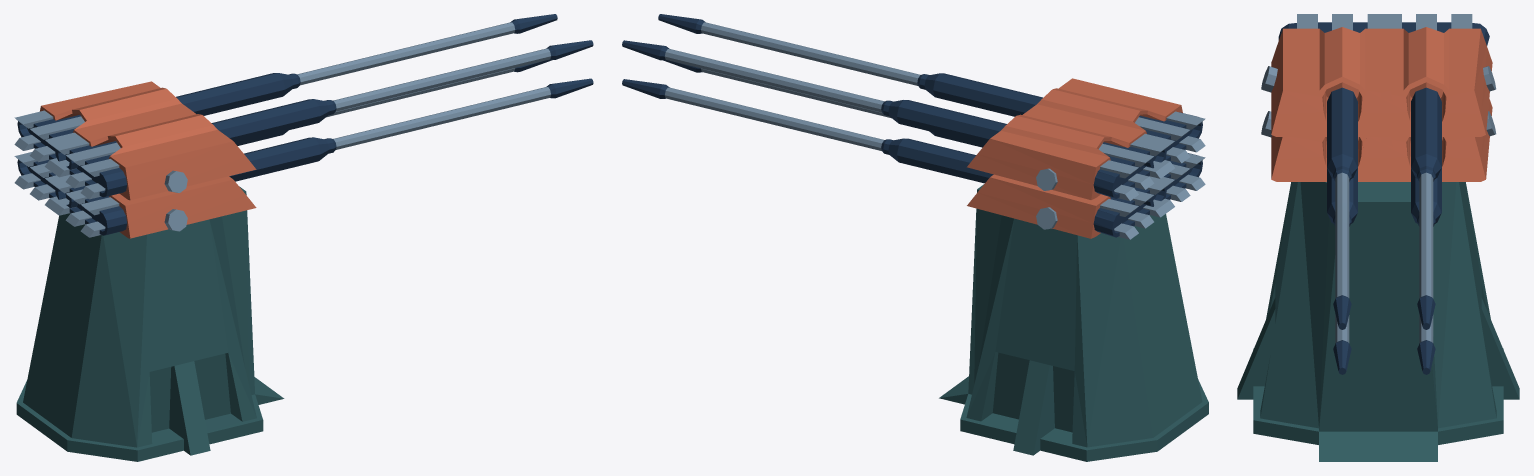
Rendered from Cannon-RRRR-4.fbx.
The picture shows the model from 3 angles, left to right: view 1: azimuth 30°, elevation 25°; view 2: azimuth 150°, elevation 25°; view 3: azimuth 270°, elevation 25°; orthographic projection. The views are drawn at different scales.
Parts seen in each view (by area): view 1: russian4:base, russian4:attack; view 2: russian4:base, russian4:attack; view 3: russian4:base, russian4:attack.
Part boxes in pixels (x1,y1,x2,y2): russian4:base: [16, 186, 284, 461]; russian4:attack: [14, 14, 593, 238]; russian4:base: [939, 184, 1208, 461]; russian4:attack: [622, 14, 1205, 239]; russian4:base: [1237, 182, 1519, 461]; russian4:attack: [1261, 14, 1496, 374].
Bounding box in the file's own units: 2909 × 1530 × 1137.
